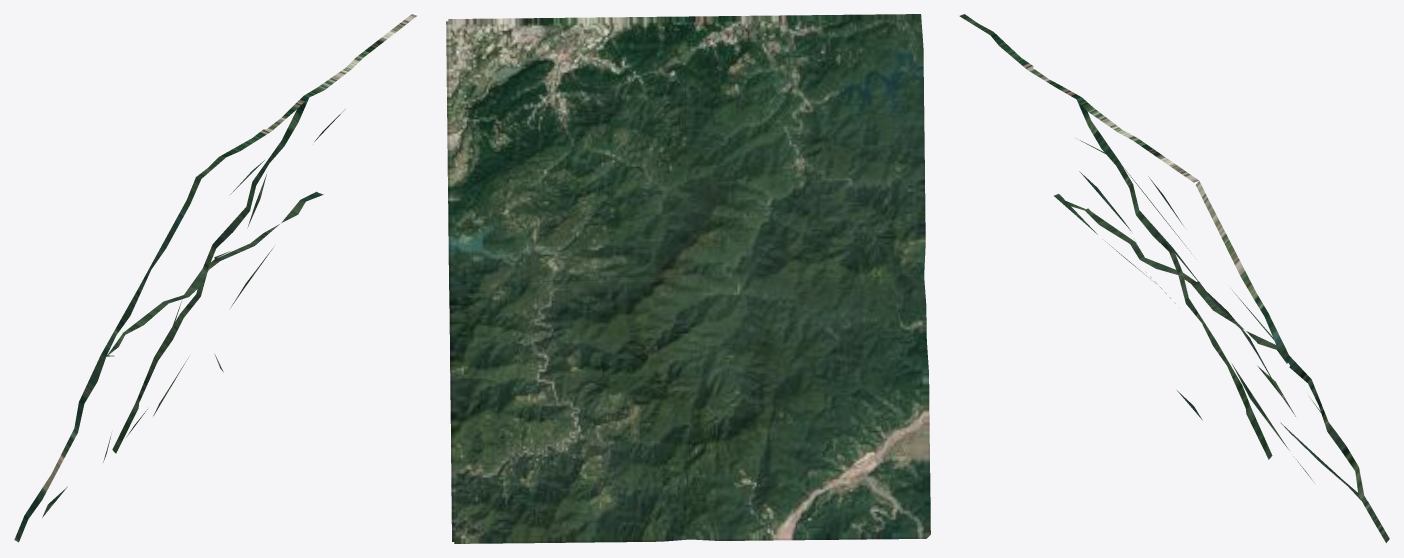
3 views of the same model, side by side, from view 1: azimuth 30°, elevation 25°; view 2: azimuth 150°, elevation 25°; view 3: azimuth 270°, elevation 25° (orthographic). The views are drawn at different scales.
Bounding box in the file's own units: 39581 × 36053 × 33631.
1 material, 1 textured.
